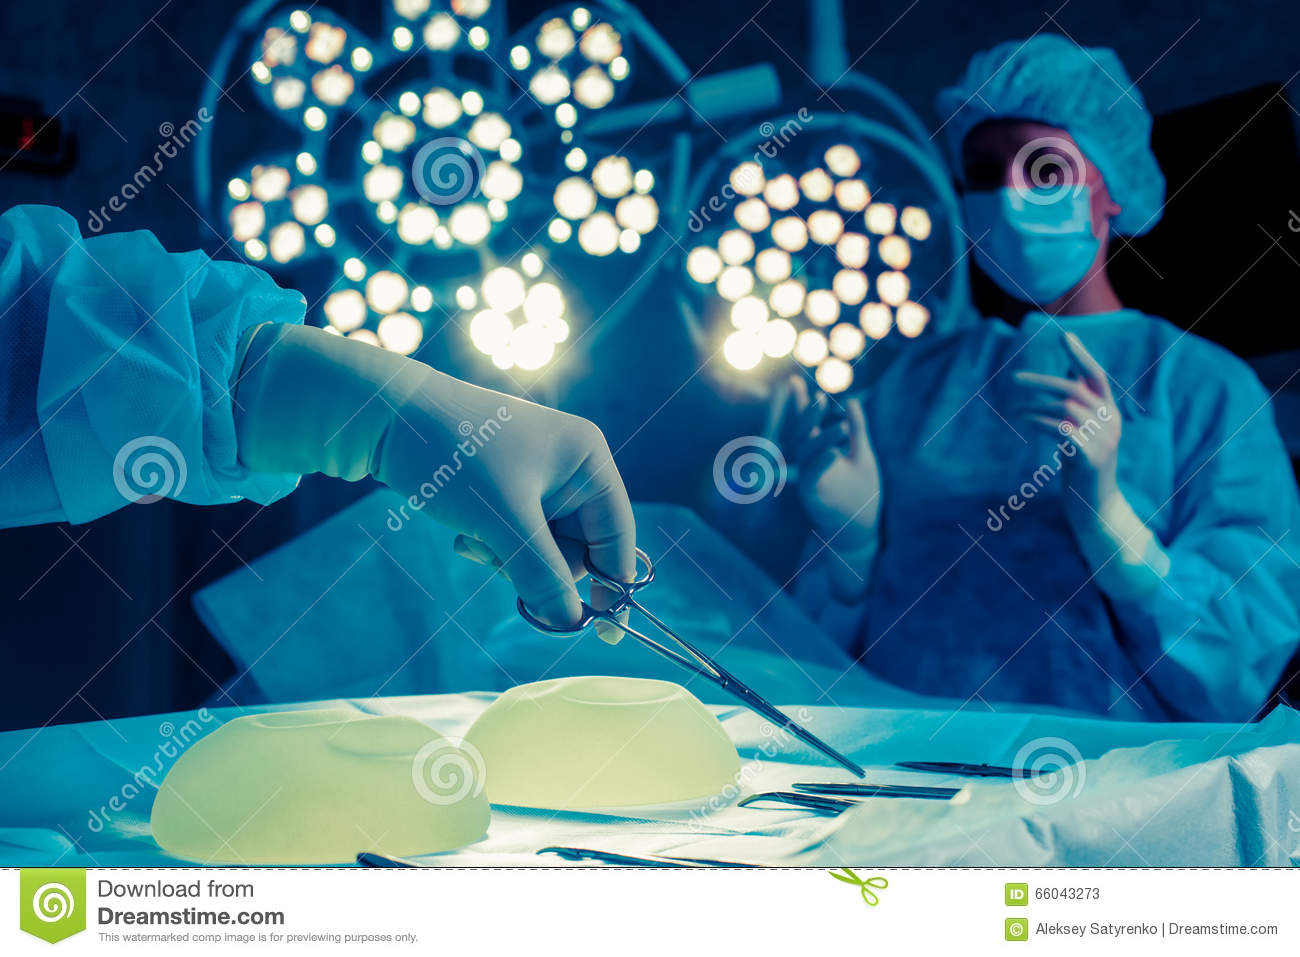mask: (961, 191, 1106, 294)
